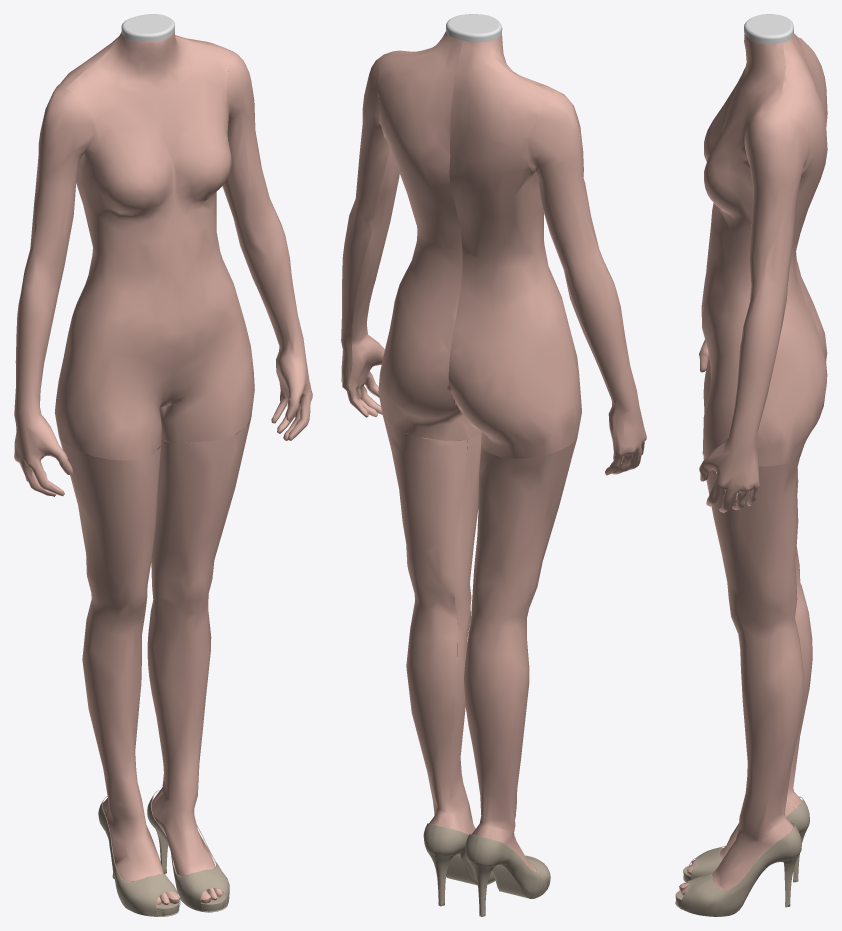
Rendered from body_silver_cap.glb.
The picture shows the model from 3 angles, left to right: view 1: azimuth 30°, elevation 25°; view 2: azimuth 150°, elevation 25°; view 3: azimuth 270°, elevation 25°; orthographic projection. The views are drawn at different scales.
Parts seen in each view (by area): view 1: body, sandle, silver_cap; view 2: body, sandle, silver_cap; view 3: body, sandle, silver_cap.
Boxes of the visible parts, left/top/right/bottom form: body: left=14, top=31, right=312, bottom=904; sandle: left=98, top=790, right=229, bottom=916; silver_cap: left=121, top=14, right=174, bottom=41; body: left=341, top=31, right=646, bottom=871; sandle: left=423, top=823, right=550, bottom=916; silver_cap: left=446, top=14, right=502, bottom=42; body: left=679, top=33, right=827, bottom=895; sandle: left=675, top=796, right=809, bottom=916; silver_cap: left=744, top=14, right=793, bottom=43.
Size of the model in its own units: 57 by 164 by 26.02.
